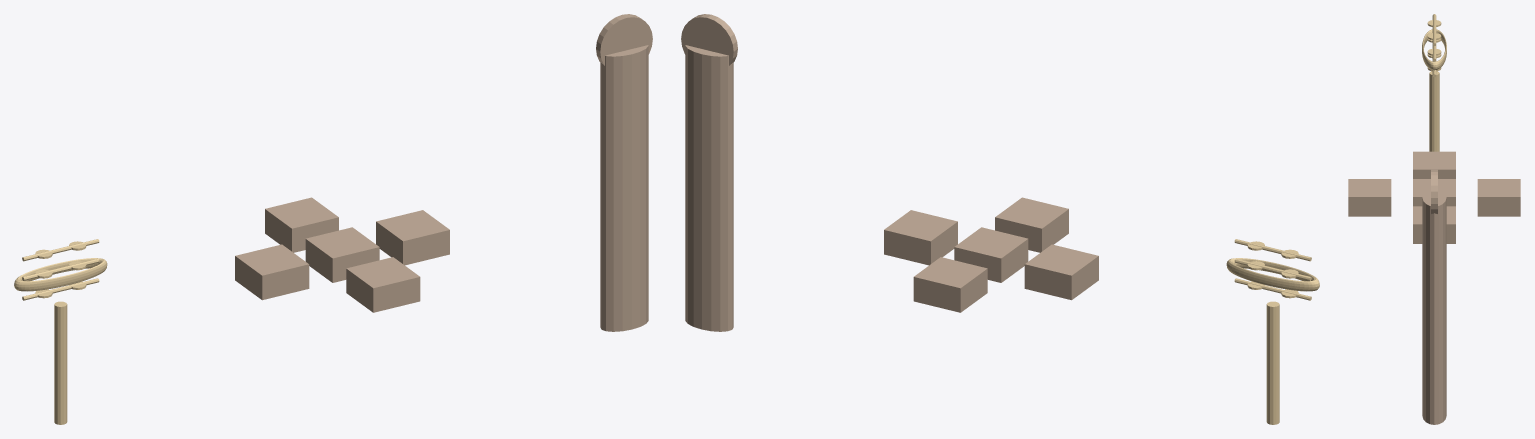
File: sanctuary_specimens.glb
3 renders of one model, left to right at view 1: azimuth 30°, elevation 25°; view 2: azimuth 150°, elevation 25°; view 3: azimuth 270°, elevation 25°, orthographic. The views are drawn at different scales.
Visible parts, largest first — view 1: AksumiteObelisk, BetGiyorgisCross, TsenatselSistrum; view 2: AksumiteObelisk, BetGiyorgisCross, TsenatselSistrum; view 3: BetGiyorgisCross, AksumiteObelisk, TsenatselSistrum.
Part boxes in pixels (x1,y1,x2,y2): AksumiteObelisk: (596,14,652,331); BetGiyorgisCross: (235,197,449,312); TsenatselSistrum: (14,239,107,424); AksumiteObelisk: (681,14,737,331); BetGiyorgisCross: (884,197,1098,312); TsenatselSistrum: (1226,239,1319,424); BetGiyorgisCross: (1348,151,1520,243); AksumiteObelisk: (1422,169,1446,424); TsenatselSistrum: (1422,14,1446,151).
Size of the model in its own units: 6.77 by 3.13 by 2.
